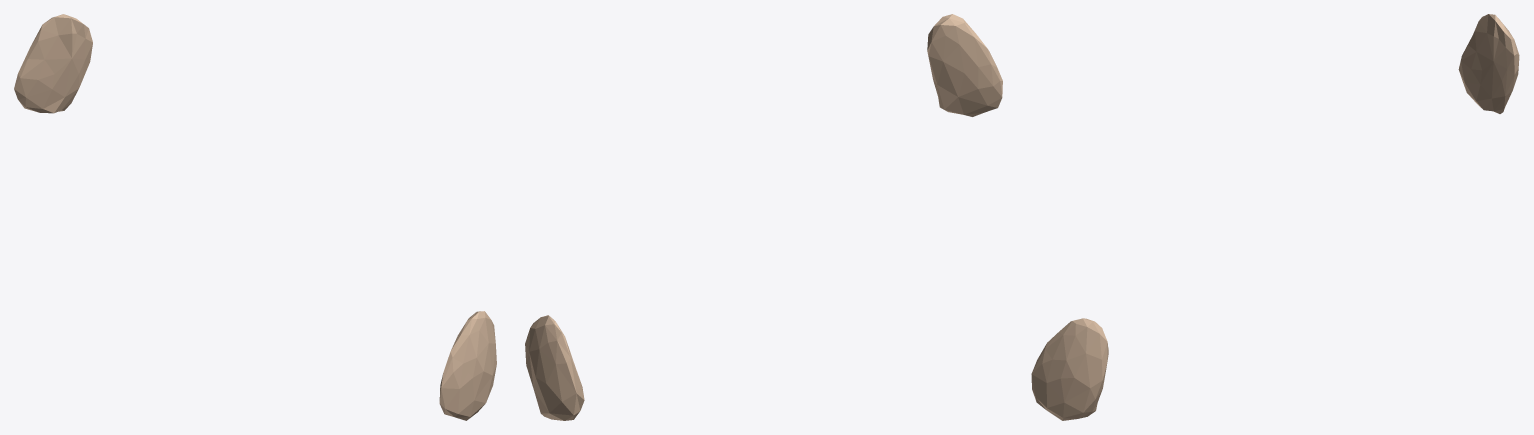
The picture shows the model from 3 angles, left to right: view 1: azimuth 30°, elevation 25°; view 2: azimuth 150°, elevation 25°; view 3: azimuth 330°, elevation 25°; orthographic projection. The views are drawn at different scales.
Visible parts, largest first — view 1: 549009227.obj; view 2: 549009227.obj; view 3: 549009227.obj.
Boxes of the visible parts, x1,y1,x2,y2 form: 549009227.obj: (14, 14, 496, 420); 549009227.obj: (525, 14, 1002, 420); 549009227.obj: (1031, 14, 1519, 420).
Bounding box in the file's own units: 348 × 504 × 3823.
